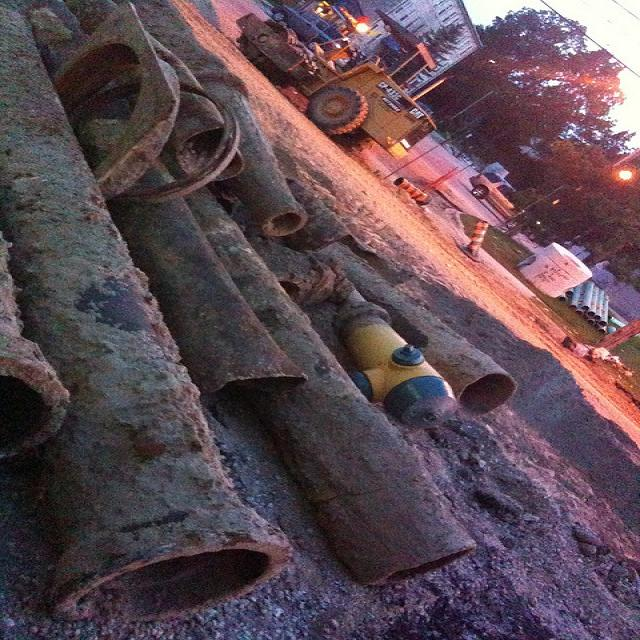Vehicle: (275, 2, 349, 40), (468, 170, 518, 220)
